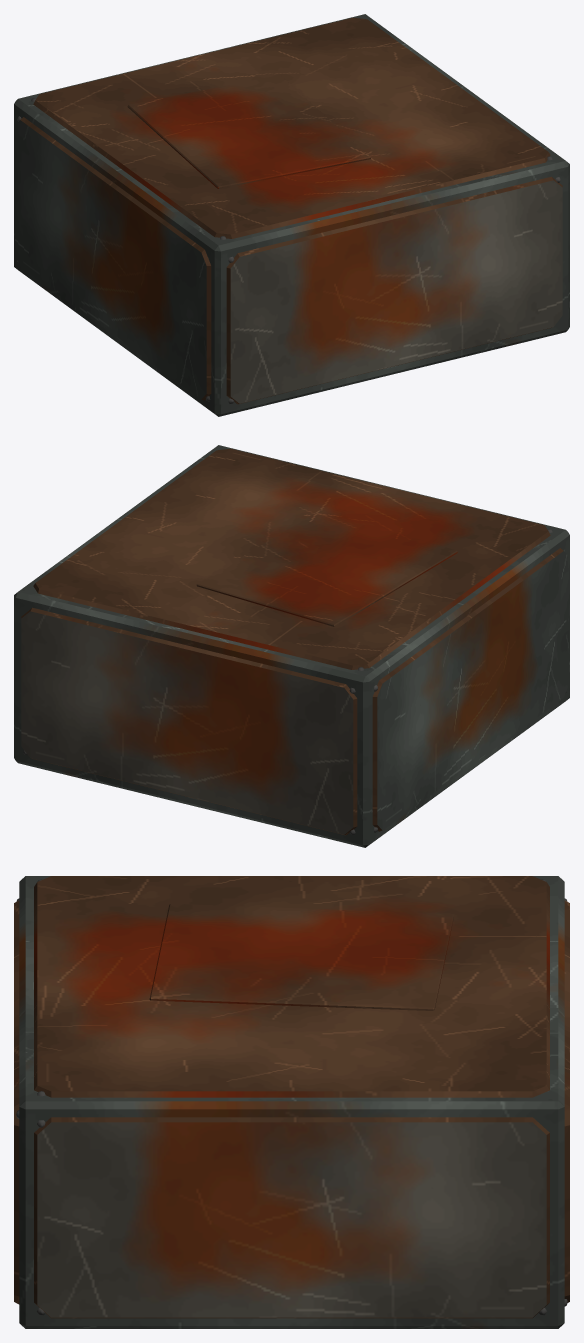
File: R4B_HalfBlock.glb
The picture shows the model from 3 angles, top to bottom: view 1: azimuth 30°, elevation 25°; view 2: azimuth 150°, elevation 25°; view 3: azimuth 270°, elevation 25°; orthographic projection. The views are drawn at different scales.
Visible parts, largest first — view 1: R4B_HalfBlock; view 2: R4B_HalfBlock; view 3: R4B_HalfBlock.
Part boxes in pixels (x1,y1,x2,y2): R4B_HalfBlock: (14, 14, 569, 416); R4B_HalfBlock: (14, 445, 569, 847); R4B_HalfBlock: (14, 876, 569, 1328).
Bounding box in the file's own units: 0.52 × 0.248 × 0.52.
Materials: 4 (4 with a texture image).
